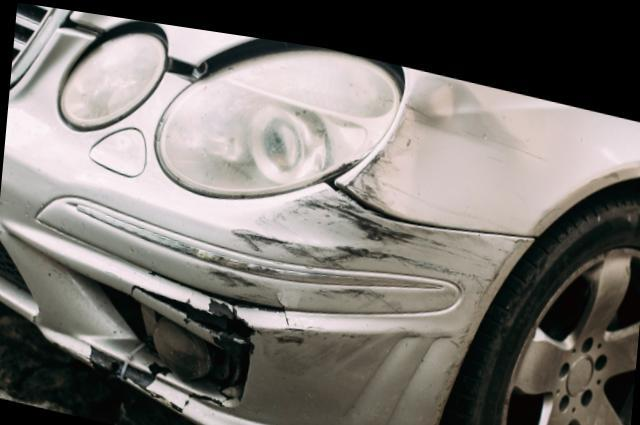crack: (128, 281, 255, 336), (133, 378, 234, 408)
dent: (355, 60, 538, 217)
scratch: (227, 177, 518, 283), (203, 245, 405, 301), (259, 317, 374, 368)
